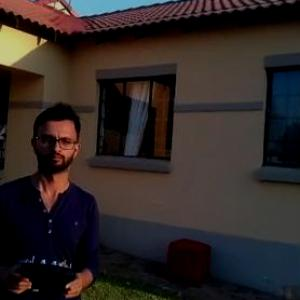follow: (0, 93, 109, 299)
